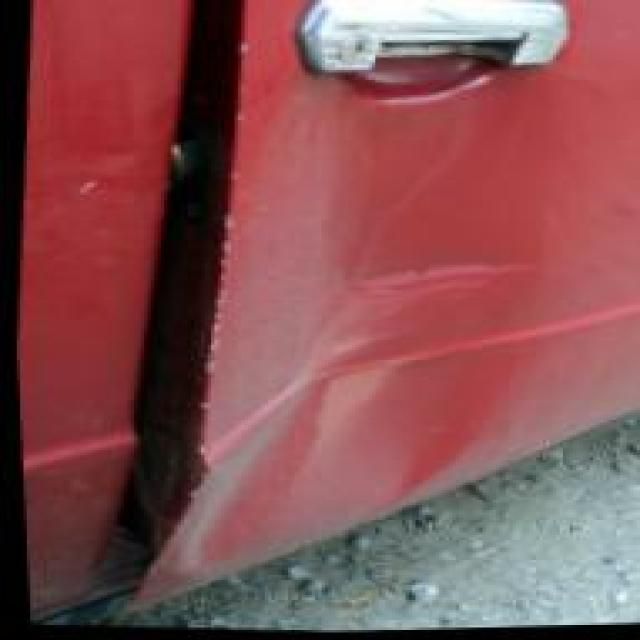Door: (70, 0, 640, 638)
